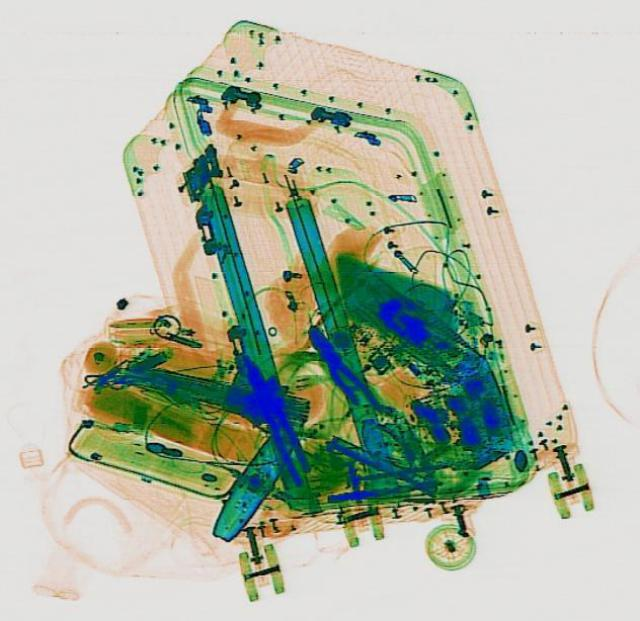Pliers: (234, 349, 312, 487), (296, 317, 382, 419)
